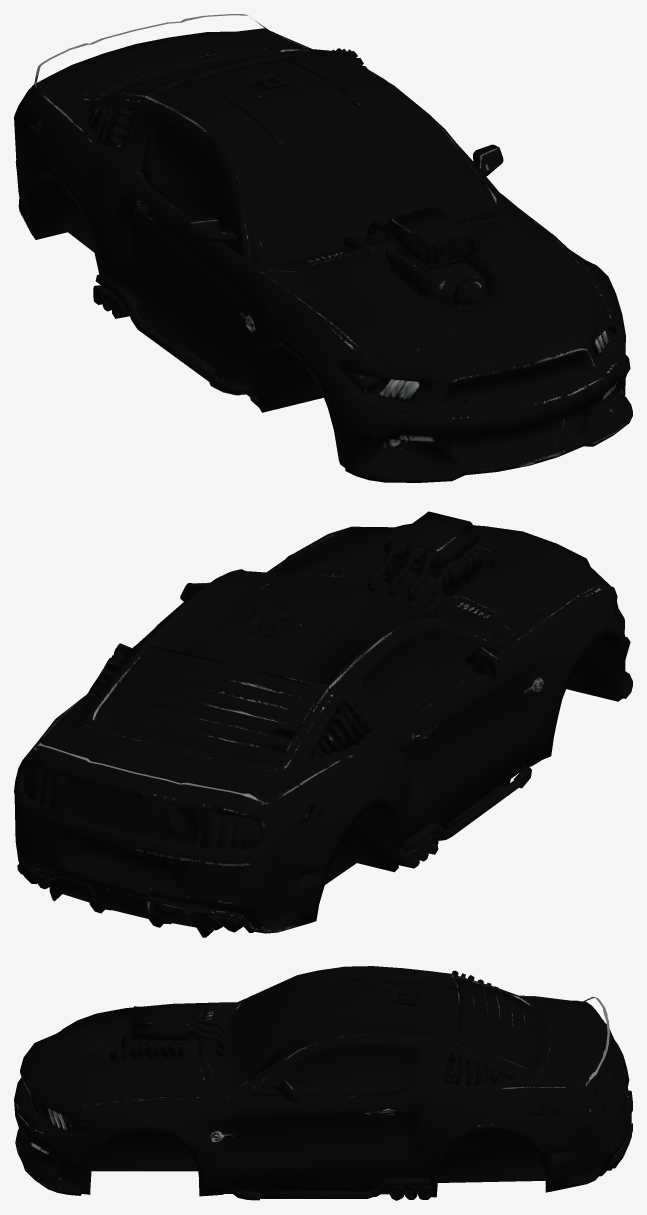
Rendered from muscle-chasis-2.glb.
3 views of the same model, one above another, from view 1: azimuth 30°, elevation 25°; view 2: azimuth 150°, elevation 25°; view 3: azimuth 270°, elevation 25° (orthographic). The views are drawn at different scales.
Visible parts, largest first — view 1: tripo_part_0, engine top, exhast11, engine block, tripo_part_15, engine front, tripo_part_17; view 2: tripo_part_0, engine top, right tail light, exhast11, left tail light, tripo_part_10, engine block, tripo_part_15; view 3: tripo_part_0, engine top, exhast2, engine block, tripo_part_10, left tail light, tripo_part_17, tripo_part_29, tripo_part_30.
Boxes of the visible parts, x1,y1,x2,y2 form: tripo_part_0: (14, 14, 632, 482); engine top: (367, 206, 480, 266); exhast11: (95, 273, 248, 395); engine block: (388, 246, 485, 305); tripo_part_15: (182, 216, 238, 241); engine front: (453, 278, 487, 304); tripo_part_17: (473, 144, 503, 176); tripo_part_0: (14, 523, 632, 937); engine top: (367, 511, 479, 602); right tail light: (200, 811, 261, 849); exhast11: (400, 761, 531, 852); left tail light: (23, 767, 65, 812); tripo_part_10: (244, 605, 299, 638); engine block: (384, 549, 480, 595); tripo_part_15: (465, 647, 501, 677); tripo_part_0: (14, 966, 632, 1197); engine top: (132, 1006, 224, 1049); exhast2: (260, 1177, 430, 1198); engine block: (121, 1032, 199, 1060); tripo_part_10: (384, 984, 419, 1005); left tail light: (594, 1076, 615, 1112); tripo_part_17: (272, 1080, 300, 1102); tripo_part_29: (314, 1013, 459, 1025); tripo_part_30: (314, 979, 459, 990).
Size of the model in its own units: 0.4481 by 0.2779 by 1.
Materials: 1 (1 with a texture image).
